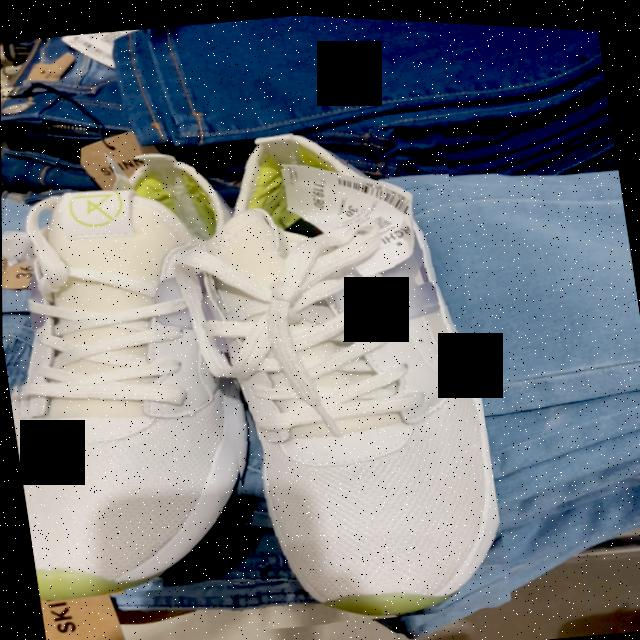shoe: (189, 132, 498, 615), (18, 157, 229, 599)
